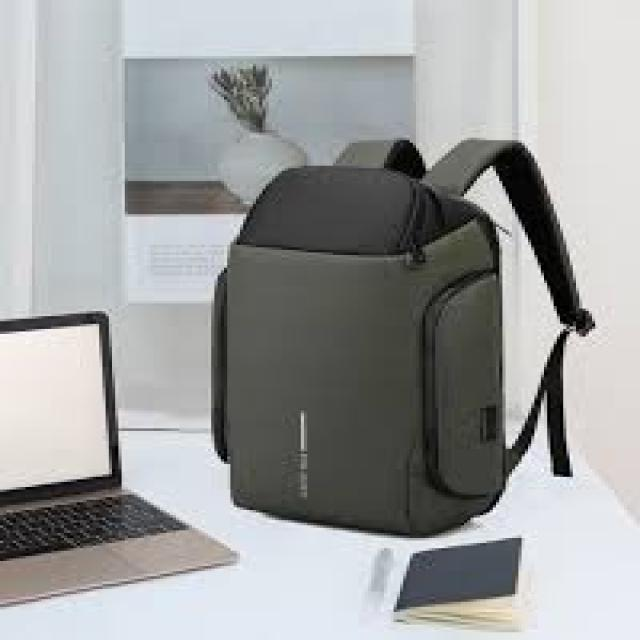backpack: (209, 136, 593, 537)
